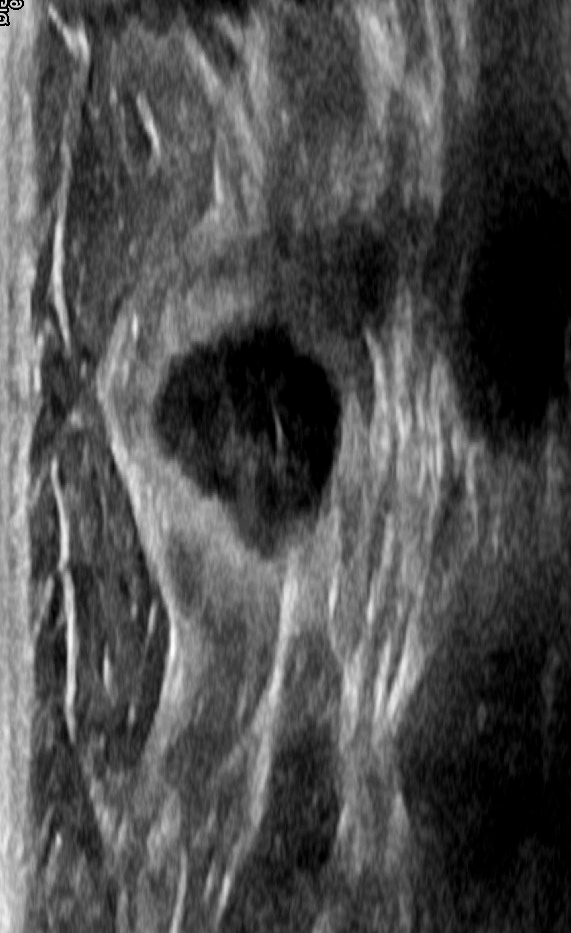Benign: (144, 329, 350, 545)
